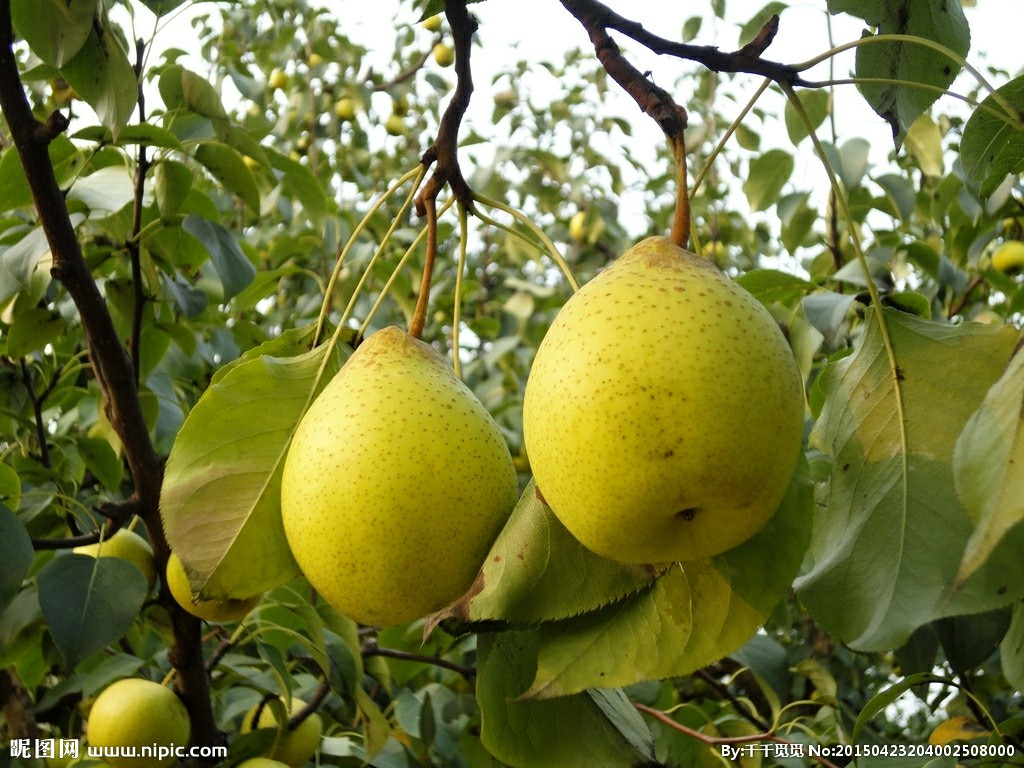pear: (523, 232, 799, 563), (279, 323, 518, 626), (84, 679, 192, 765), (162, 539, 247, 622)
